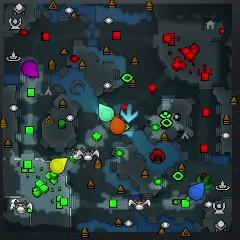p1: (189, 182, 205, 201)
p2: (99, 103, 115, 122)
p3: (22, 61, 39, 78)
p4: (50, 158, 67, 174)
p5: (110, 116, 126, 134)
x3: (120, 103, 139, 123)
x4: (196, 173, 213, 190)
